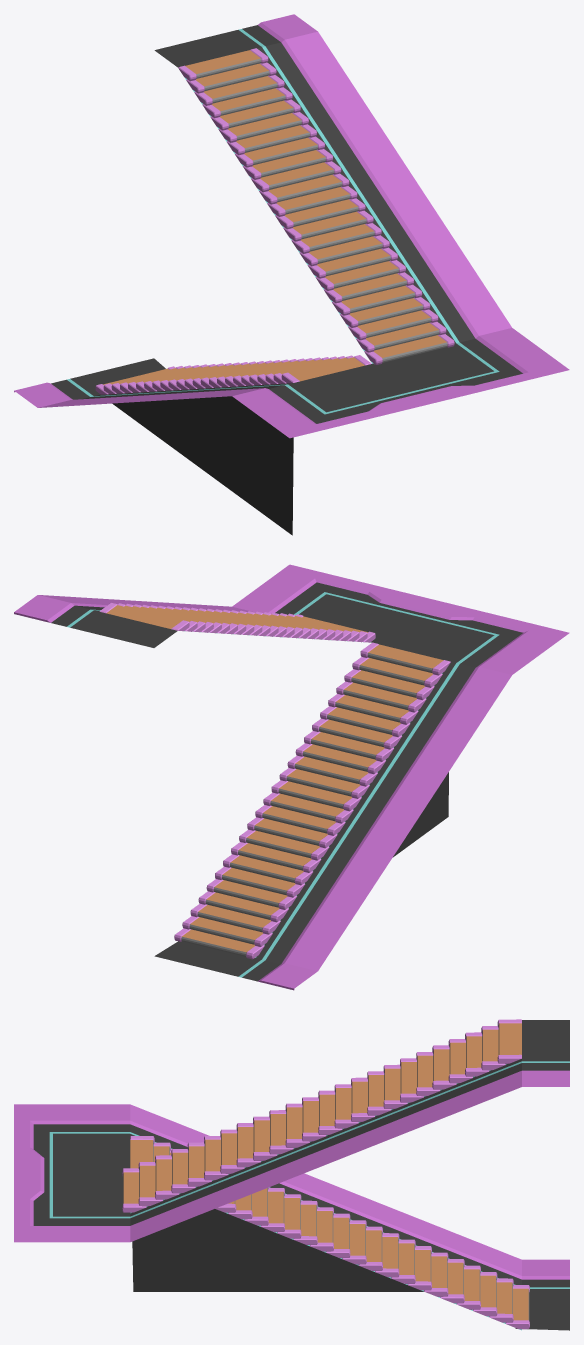
Rendered from StairwayStairFloor.fbx.
3 views of the same model, one above another, from view 1: azimuth 30°, elevation 25°; view 2: azimuth 150°, elevation 25°; view 3: azimuth 270°, elevation 25° (orthographic).
Parts seen in each view (by area): view 1: StairwayStairFloor, Stair2, Stair1; view 2: StairwayStairFloor, Stair1, Stair2; view 3: StairwayStairFloor, Stair2, Stair1.
Boxes of the visible parts, x1=… form: StairwayStairFloor: x1=14, y1=14, x2=569, y2=535; Stair2: x1=178, y1=48, x2=454, y2=364; Stair1: x1=95, y1=355, x2=371, y2=394; StairwayStairFloor: x1=14, y1=564, x2=569, y2=990; Stair1: x1=174, y1=642, x2=450, y2=959; Stair2: x1=99, y1=603, x2=375, y2=642; StairwayStairFloor: x1=14, y1=1020, x2=569, y2=1330; Stair2: x1=122, y1=1019, x2=521, y2=1213; Stair1: x1=130, y1=1136, x2=529, y2=1330.
Size of the model in its own units: 8 by 8.45 by 13.62.
